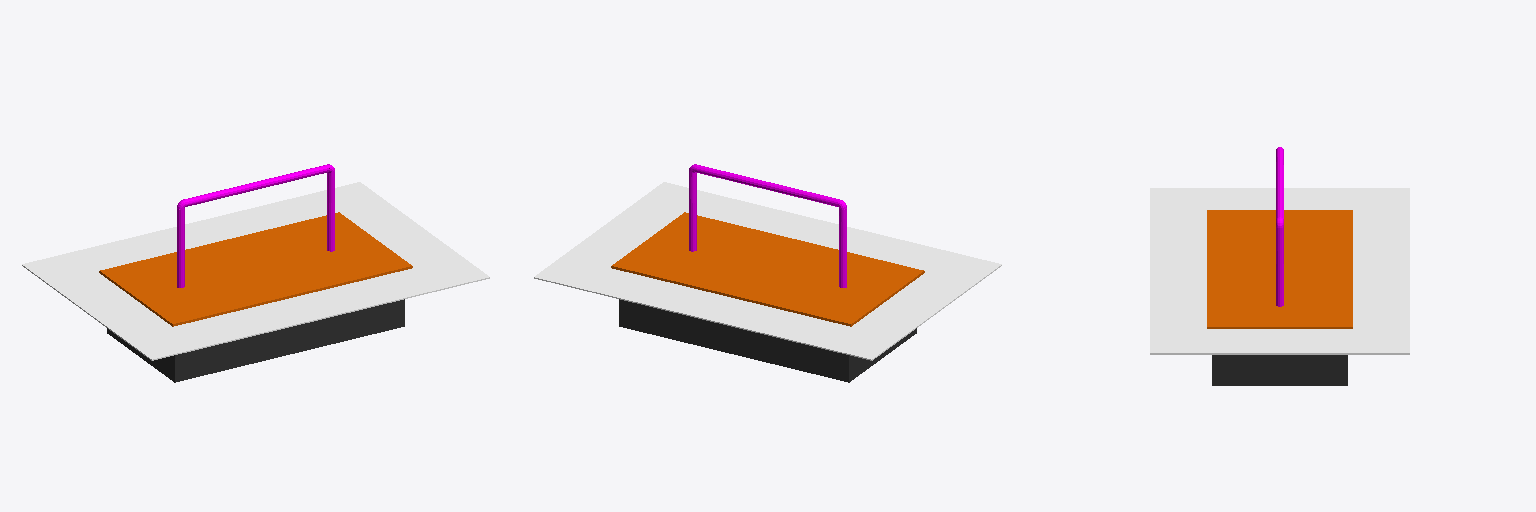
File: weigh_anchor.obj
The picture shows the model from 3 angles: view 1: azimuth 30°, elevation 25°; view 2: azimuth 150°, elevation 25°; view 3: azimuth 270°, elevation 25°; orthographic projection.
Parts seen in each view (by area): view 1: mesh 1 Weigh Anchor Bin-1, mesh 4 Cut-Extrude3, mesh 2 Boss-Extrude1, mesh 5 Cut-Extrude3 face; view 2: mesh 1 Weigh Anchor Bin-1, mesh 4 Cut-Extrude3, mesh 2 Boss-Extrude1, mesh 5 Cut-Extrude3 face; view 3: mesh 1 Weigh Anchor Bin-1, mesh 4 Cut-Extrude3, mesh 2 Boss-Extrude1, mesh 5 Cut-Extrude3 face.
Part boxes in pixels (bbox=[...]): mesh 1 Weigh Anchor Bin-1: bbox=[22, 182, 489, 360]; mesh 4 Cut-Extrude3: bbox=[99, 212, 412, 326]; mesh 2 Boss-Extrude1: bbox=[107, 299, 404, 382]; mesh 5 Cut-Extrude3 face: bbox=[177, 164, 334, 287]; mesh 1 Weigh Anchor Bin-1: bbox=[534, 182, 1001, 360]; mesh 4 Cut-Extrude3: bbox=[611, 212, 924, 326]; mesh 2 Boss-Extrude1: bbox=[619, 299, 916, 382]; mesh 5 Cut-Extrude3 face: bbox=[689, 164, 846, 287]; mesh 1 Weigh Anchor Bin-1: bbox=[1150, 188, 1409, 354]; mesh 4 Cut-Extrude3: bbox=[1207, 210, 1352, 328]; mesh 2 Boss-Extrude1: bbox=[1212, 355, 1347, 385]; mesh 5 Cut-Extrude3 face: bbox=[1276, 147, 1283, 306].
Bounding box in the file's own units: 0.9144 × 0.381 × 0.6096.